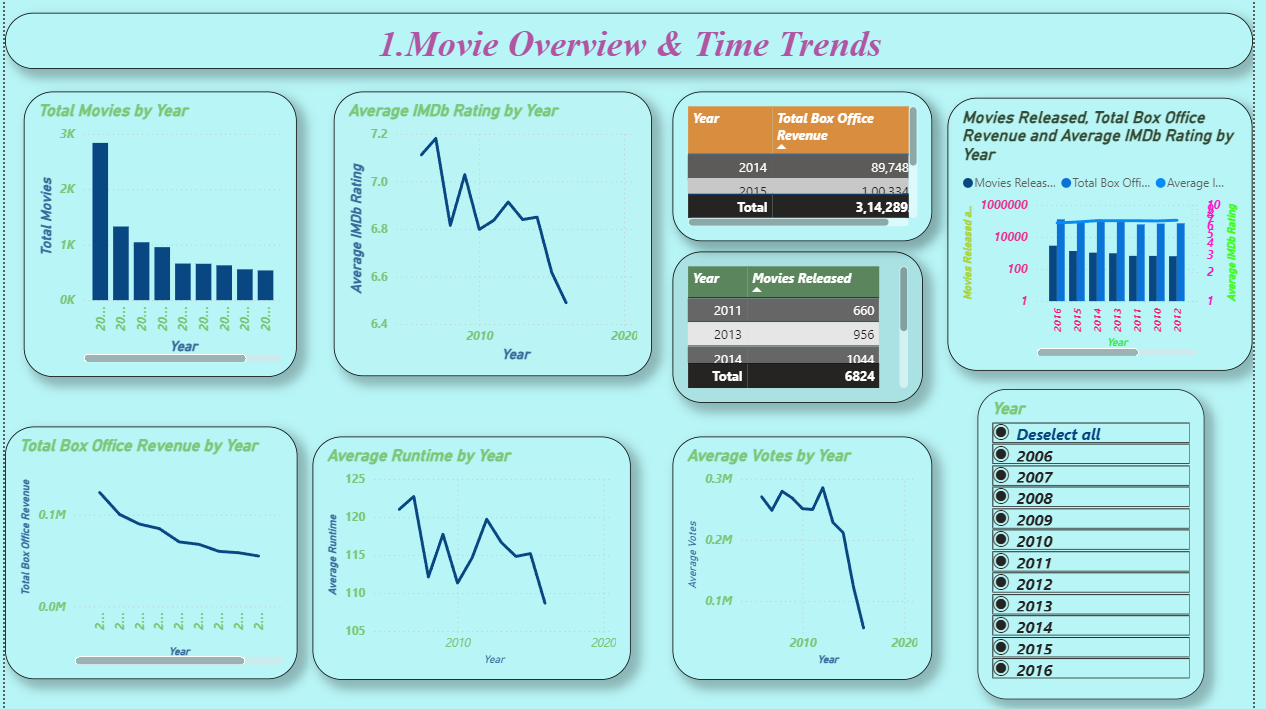

The dashboard page shown, as its layout file describes it:
{"tool":"powerbi","page":{"name":"Page 1","canvas":[1280,730],"ordinal":0},"visuals":[{"type":"clusteredColumnChart","fields":{"Category":["IMDB-Movie-Data.Year"],"Y":["IMDB-Movie-Data.Total Movies"]},"box":[19.8,95.5,280.2,292.6],"z":0},{"type":"lineChart","fields":{"Category":["IMDB-Movie-Data.Year"],"Y":["IMDB-Movie-Data.Total Box Office Revenue"]},"box":[0,438.9,300,259.1],"z":1000},{"type":"lineChart","fields":{"Category":["IMDB-Movie-Data.Year"],"Y":["IMDB-Movie-Data.Average IMDb Rating"]},"box":[337.5,95.4,326.5,292.3],"z":2000},{"type":"lineChart","fields":{"Category":["IMDB-Movie-Data.Year"],"Y":["IMDB-Movie-Data.Average Runtime"]},"box":[314.9,448.8,326.1,249.2],"z":3000},{"type":"tableEx","fields":{"Values":["IMDB-Movie-Data.Year","IMDB-Movie-Data.Total Box Office Revenue"]},"box":[684.4,95.5,266.6,153.7],"z":4000},{"type":"tableEx","fields":{"Values":["IMDB-Movie-Data.Year","IMDB-Movie-Data.Movies Released"]},"box":[684.4,259.1,256.6,155],"z":5000},{"type":"lineChart","fields":{"Category":["IMDB-Movie-Data.Year"],"Y":["IMDB-Movie-Data.Average Votes"]},"box":[684.8,448.8,266.6,249.5],"z":7000},{"type":"lineClusteredColumnComboChart","fields":{"Category":["IMDB-Movie-Data.Year"],"Y":["IMDB-Movie-Data.Movies Released","IMDB-Movie-Data.Total Box Office Revenue"],"Y2":["IMDB-Movie-Data.Average IMDb Rating"]},"box":[967.1,101.7,312.4,280.2],"z":8000},{"type":"listSlicer","fields":{"Values":["IMDB-Movie-Data.Year"]},"box":[996.8,400.5,233.1,318.6],"z":9000},{"type":"textbox","title":"1.Movie Overview & Time Trends","box":[0,14.7,1280.3,57.5],"z":10000}]}

Visuals, with their boxes in screenshot pixels (x1, y1, x2, y2), scaled from the page's 1280x730 canvas onto the 1266x709 screenshot:
clusteredColumnChart - IMDB-Movie-Data.Year x IMDB-Movie-Data.Total Movies: <bbox>20, 93, 297, 377</bbox>
lineChart - IMDB-Movie-Data.Year x IMDB-Movie-Data.Total Box Office Revenue: <bbox>0, 426, 297, 678</bbox>
lineChart - IMDB-Movie-Data.Year x IMDB-Movie-Data.Average IMDb Rating: <bbox>334, 93, 657, 377</bbox>
lineChart - IMDB-Movie-Data.Year x IMDB-Movie-Data.Average Runtime: <bbox>311, 436, 634, 678</bbox>
tableEx - IMDB-Movie-Data.Year x IMDB-Movie-Data.Total Box Office Revenue: <bbox>677, 93, 941, 242</bbox>
tableEx - IMDB-Movie-Data.Year x IMDB-Movie-Data.Movies Released: <bbox>677, 252, 931, 402</bbox>
lineChart - IMDB-Movie-Data.Year x IMDB-Movie-Data.Average Votes: <bbox>677, 436, 941, 678</bbox>
lineClusteredColumnComboChart - IMDB-Movie-Data.Year x IMDB-Movie-Data.Movies Released: <bbox>957, 99, 1265, 371</bbox>
listSlicer - IMDB-Movie-Data.Year: <bbox>986, 389, 1216, 698</bbox>
"1.Movie Overview & Time Trends" textbox: <bbox>0, 14, 1265, 70</bbox>
